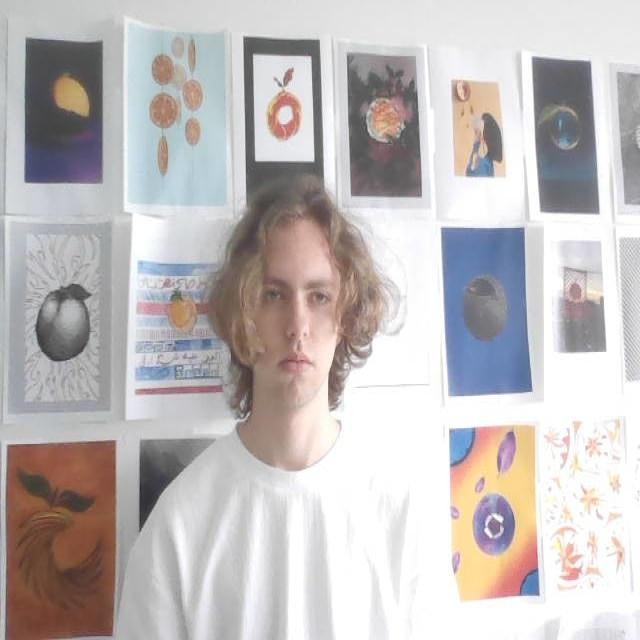opened_eye: (259, 282, 290, 310), (306, 288, 334, 312)
